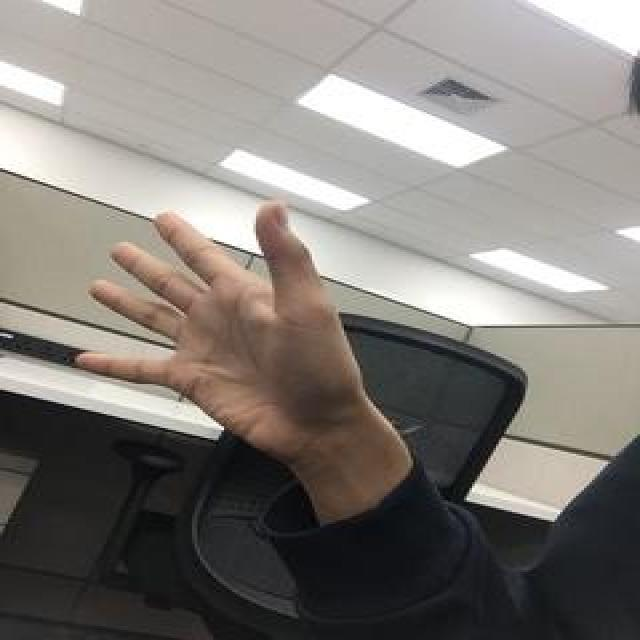hand: (69, 198, 414, 490)
